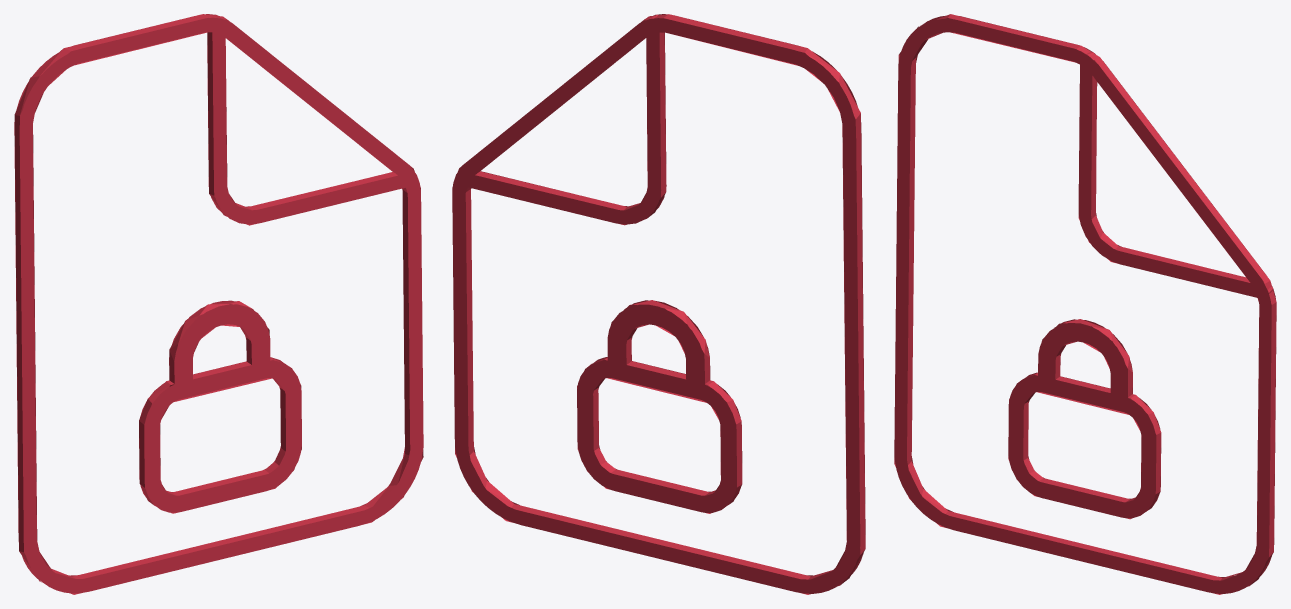
Rendered from document-padlock.glb.
The picture shows the model from 3 angles, left to right: view 1: azimuth 30°, elevation 25°; view 2: azimuth 150°, elevation 25°; view 3: azimuth 330°, elevation 25°; orthographic projection. The views are drawn at different scales.
Visible parts, largest first — view 1: path2; view 2: path2; view 3: path2.
Boxes of the visible parts, x1=… form: path2: x1=14, y1=14, x2=423, y2=594; path2: x1=452, y1=14, x2=865, y2=594; path2: x1=894, y1=14, x2=1276, y2=594.
Size of the model in its own units: 1.11 by 1.43 by 0.0517.
